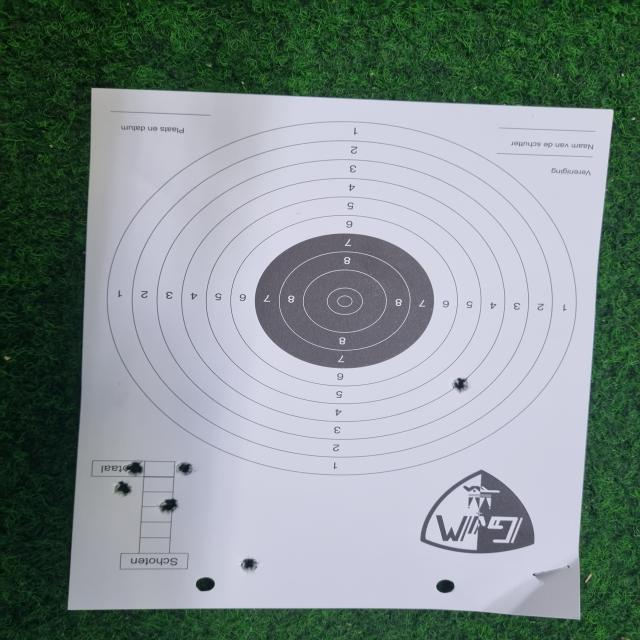5: (452, 378, 468, 394)
Black Contour: (254, 234, 436, 367)
Target: (108, 124, 578, 476)
hole: (112, 480, 132, 498), (158, 498, 178, 514), (124, 461, 143, 477), (240, 557, 257, 573), (176, 462, 193, 476)
